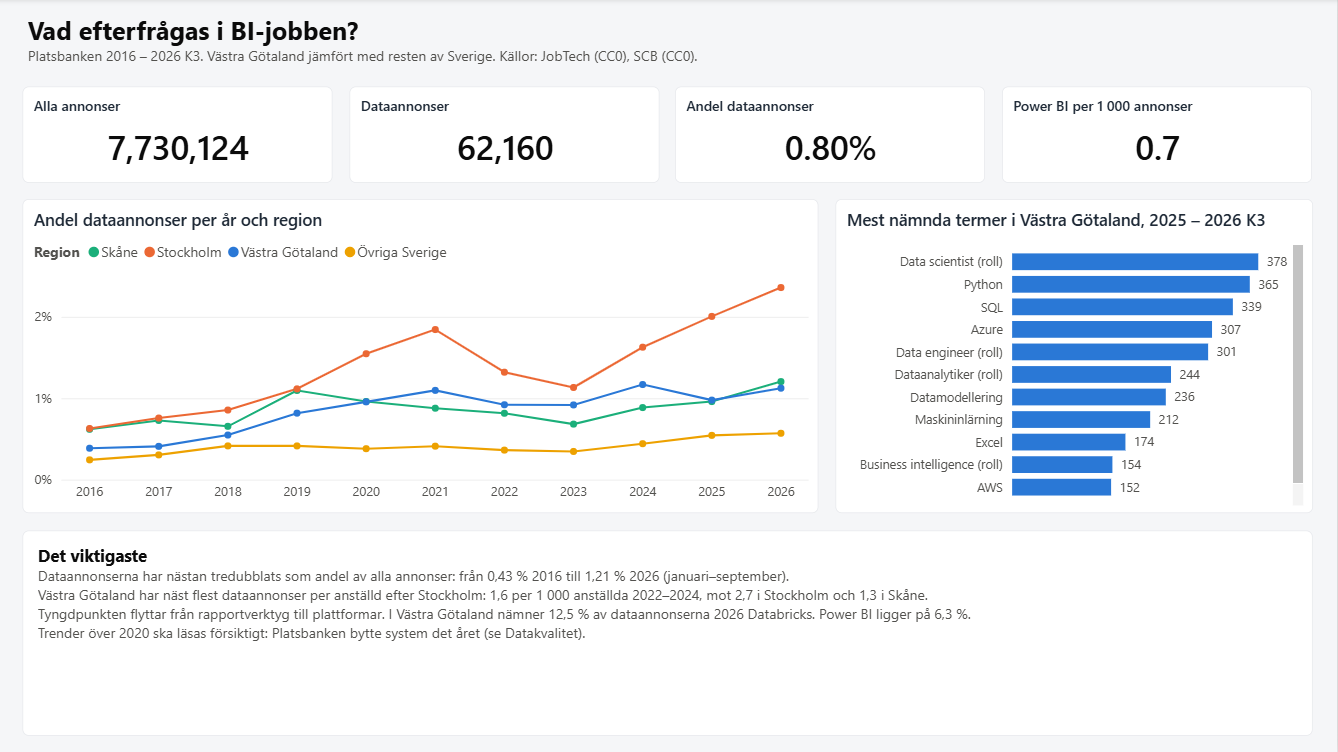

What the dashboard file says about the page in this screenshot:
{"tool":"powerbi","page":{"name":"Översikt","canvas":[1280,720],"ordinal":0},"visuals":[{"type":"textbox","box":[24,8,900,64],"z":0},{"type":"card","title":"Alla annonser","fields":{"Values":["Mått.Annonser"]},"box":[24,84,296,92],"z":1},{"type":"card","title":"Dataannonser","fields":{"Values":["Mått.Dataannonser"]},"box":[336,84,296,92],"z":2},{"type":"card","title":"Andel dataannonser","fields":{"Values":["Mått.Andel dataannonser"]},"box":[648,84,296,92],"z":3},{"type":"card","title":"Power BI per 1 000 annonser","fields":{"Values":["Mått.Power BI per 1 000 annonser"]},"box":[960,84,296,92],"z":4},{"type":"lineChart","title":"Andel dataannonser per år och region","fields":{"Category":["Datum.År"],"Series":["Län.Region"],"Y":["Mått.Andel dataannonser"]},"box":[24,192,760,300],"z":5},{"type":"clusteredBarChart","title":"Mest nämnda termer i Västra Götaland, 2025 – 2026 K3","fields":{"Category":["Term.Term"],"Y":["Mått.Annonser med term"]},"box":[800,192,456,300],"z":6},{"type":"textbox","box":[24,508,1232,196],"z":7}]}

Visuals, with their boxes in screenshot pixels (x1, y1, x2, y2), scaled from the page's 1280x720 canvas onto the 1338x752 screenshot:
textbox: 25 8 966 75
"Alla annonser" card: 25 88 334 184
"Dataannonser" card: 351 88 661 184
"Andel dataannonser" card: 677 88 987 184
"Power BI per 1 000 annonser" card: 1004 88 1313 184
"Andel dataannonser per år och region" lineChart: 25 201 820 514
"Mest nämnda termer i Västra Götaland, 2025 – 2026 K3" clusteredBarChart: 836 201 1313 514
textbox: 25 531 1313 735
